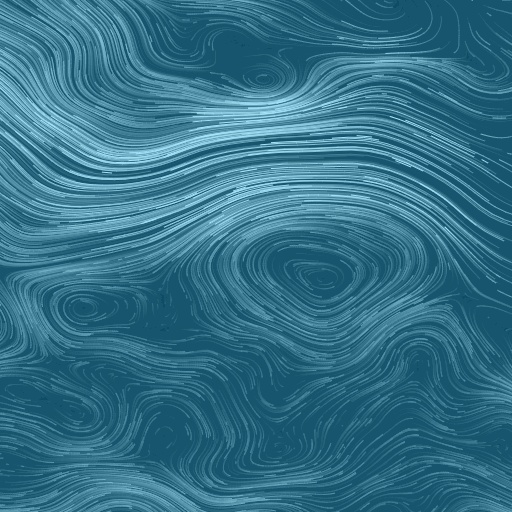eddy: (254, 235, 376, 319), (52, 286, 116, 330), (241, 63, 287, 96), (51, 395, 96, 428)
